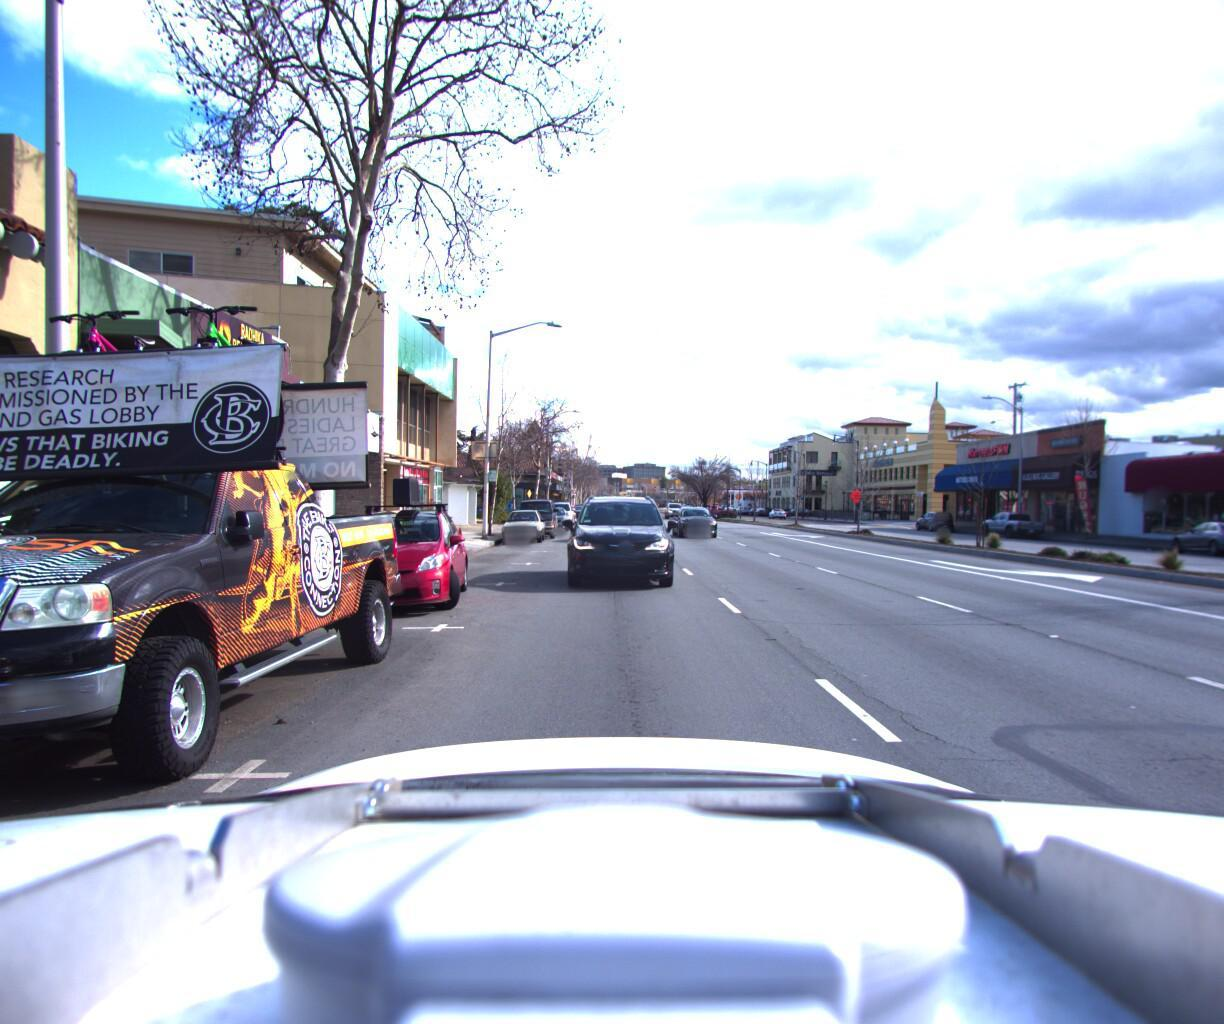car: (325, 501, 468, 622), (564, 491, 671, 596), (1167, 517, 1224, 557), (508, 494, 560, 537), (980, 506, 1051, 537), (498, 506, 545, 544), (673, 503, 721, 538), (911, 505, 959, 530), (549, 497, 574, 524), (656, 501, 678, 520)
